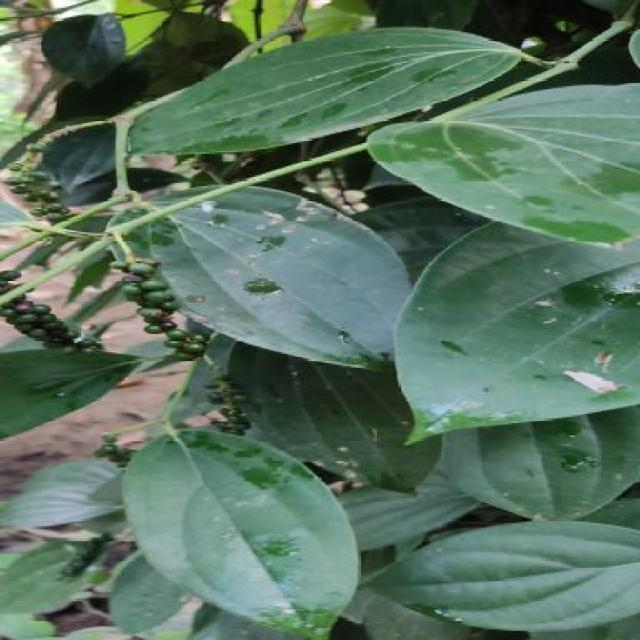UNRIPE: (116, 258, 210, 360), (3, 270, 97, 355), (9, 144, 69, 222), (207, 375, 253, 433), (101, 434, 134, 468)
